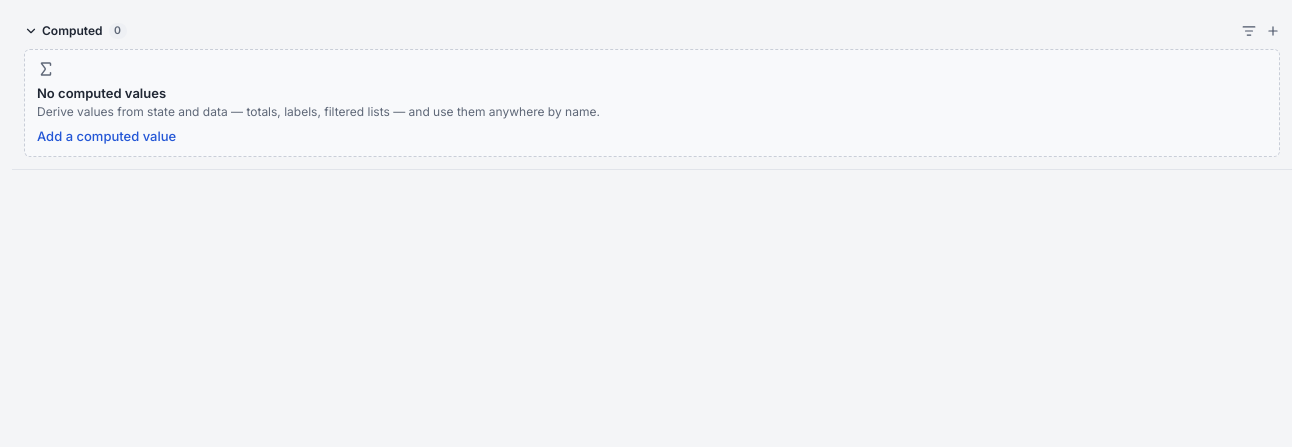
ComputedSection › shows an empty state and adds a computed value with its name focused
Expected: the text "No computed values" is shown, [37,85,166,101]
Click the button "Add a computed value" at x=107, y=137, box [37,127,176,146]
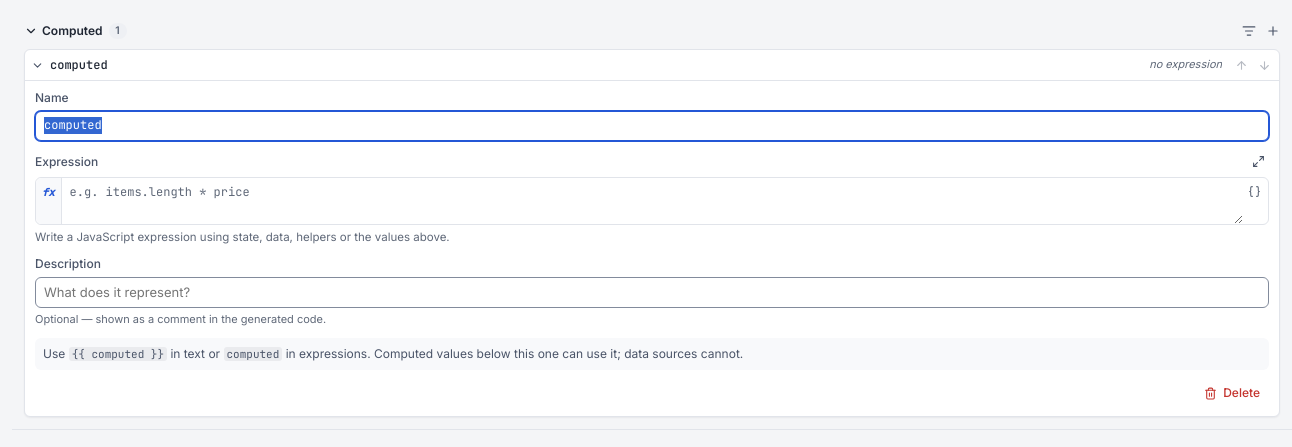
Expected: the field labelled "Name" holds "computed", [35,111,1269,141]
